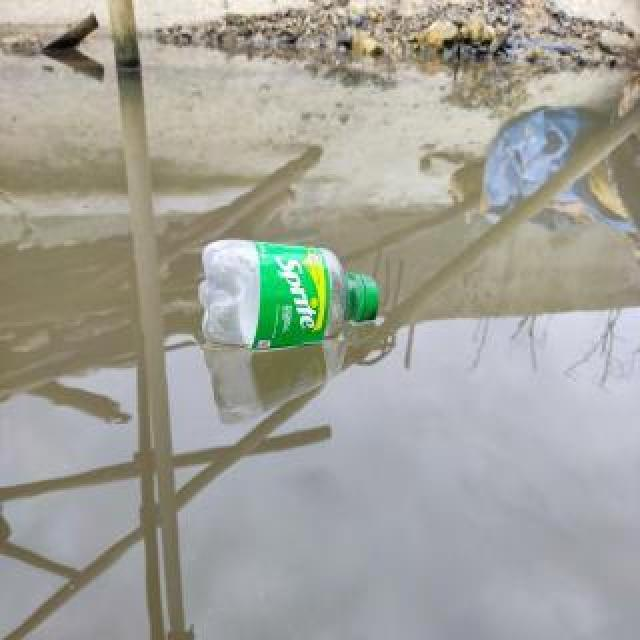bottle: (195, 236, 383, 354)
